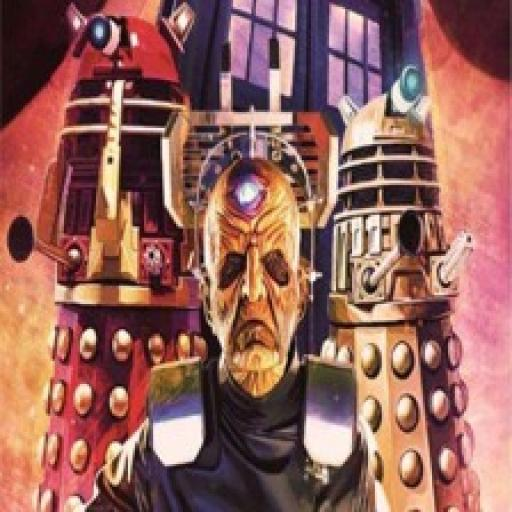dalek: (7, 2, 208, 512), (312, 59, 504, 512)
